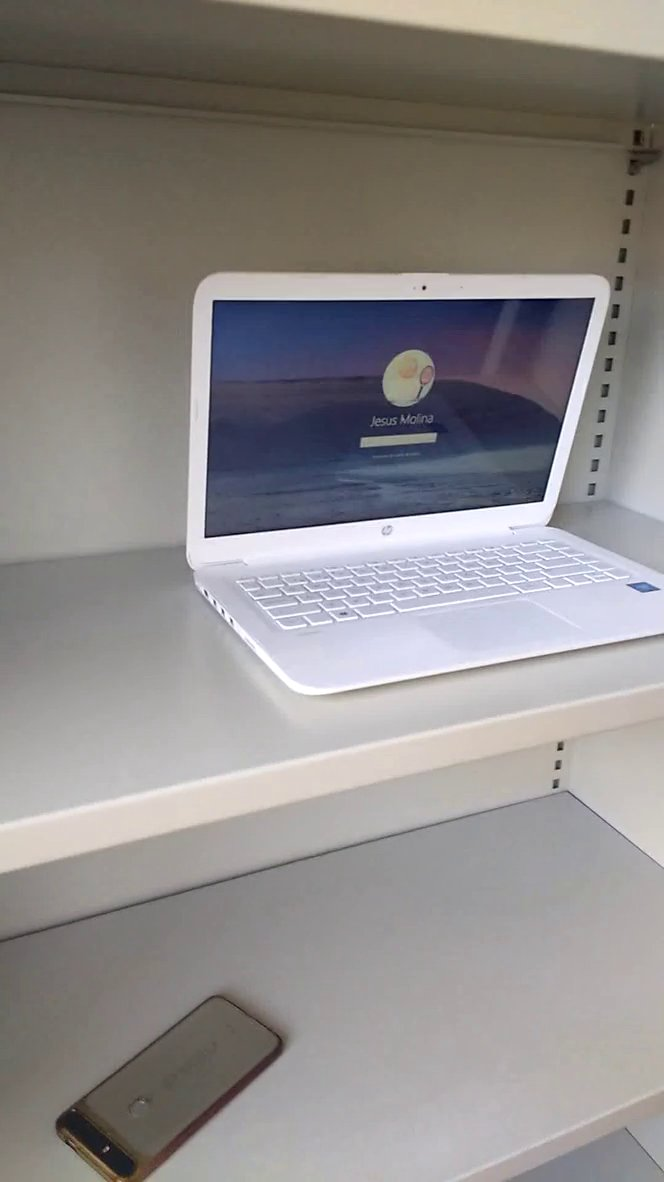laptop: (174, 257, 664, 710)
phone: (46, 976, 302, 1182)
